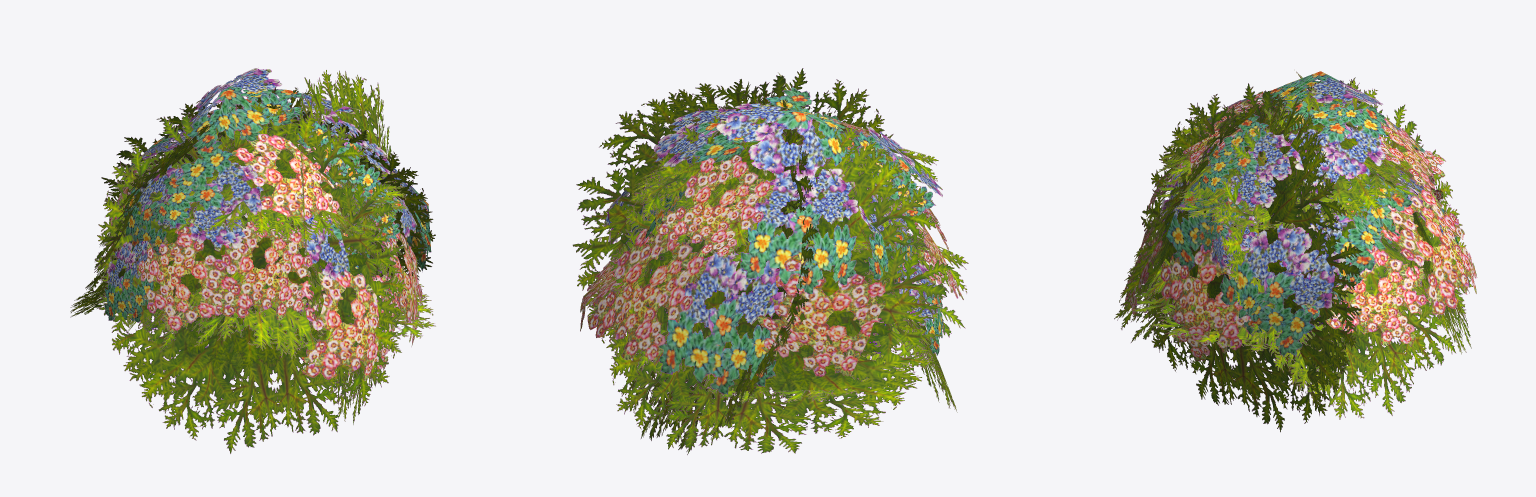
File: n_e3gardentree03_1.glb
3 views of the same model, side by side, from view 1: azimuth 30°, elevation 25°; view 2: azimuth 150°, elevation 25°; view 3: azimuth 270°, elevation 25° (orthographic). The views are drawn at different scales.
Visible parts, largest first — view 1: n_e3gardentree03_1; view 2: n_e3gardentree03_1; view 3: n_e3gardentree03_1.
Part boxes in pixels (box(x1,y1,x2,y2)): n_e3gardentree03_1: box(70, 68, 435, 453); n_e3gardentree03_1: box(572, 68, 968, 454); n_e3gardentree03_1: box(1114, 71, 1477, 432).
Bounding box in the file's own units: 1.03 × 0.964 × 1.12.
Materials: 3 (3 with a texture image).
